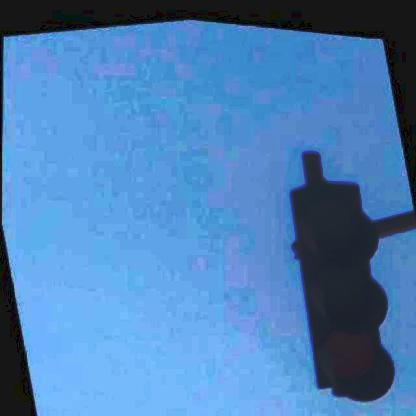Traffic Light -Red-: (278, 165, 407, 405)
